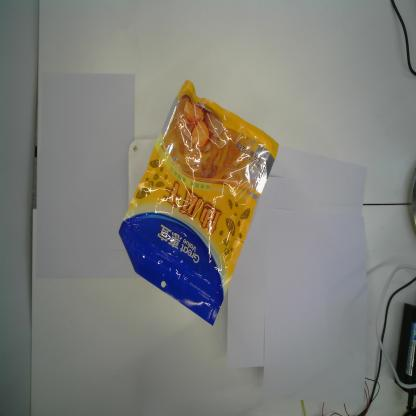Dried Fruit: (118, 79, 279, 328)
